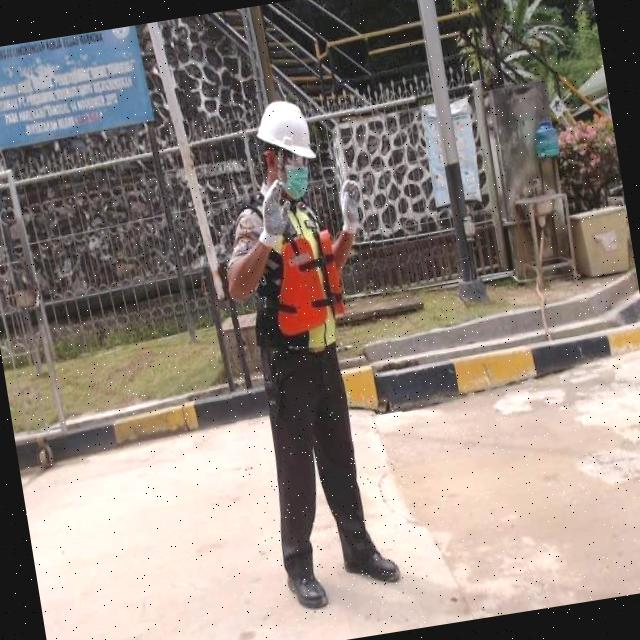boots: (337, 532, 411, 594), (282, 562, 338, 622)
helmet: (248, 90, 323, 170)
vest: (242, 188, 360, 362)
